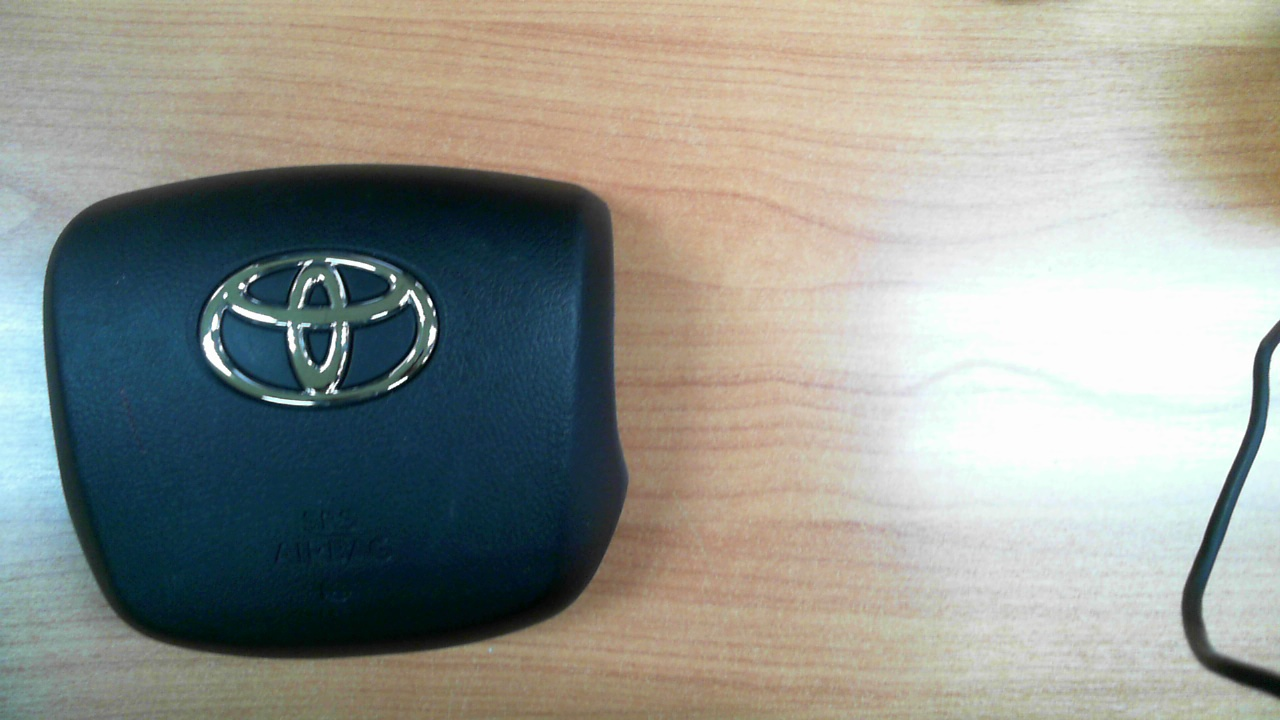Airbag: (36, 166, 625, 653)
Toyota: (199, 250, 439, 407)
